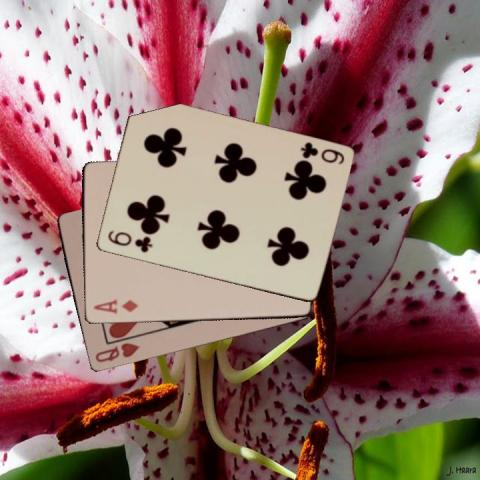6c: (104, 227, 153, 255), (297, 139, 345, 167)
Ad: (90, 297, 139, 316)
Qh: (92, 340, 141, 364)
